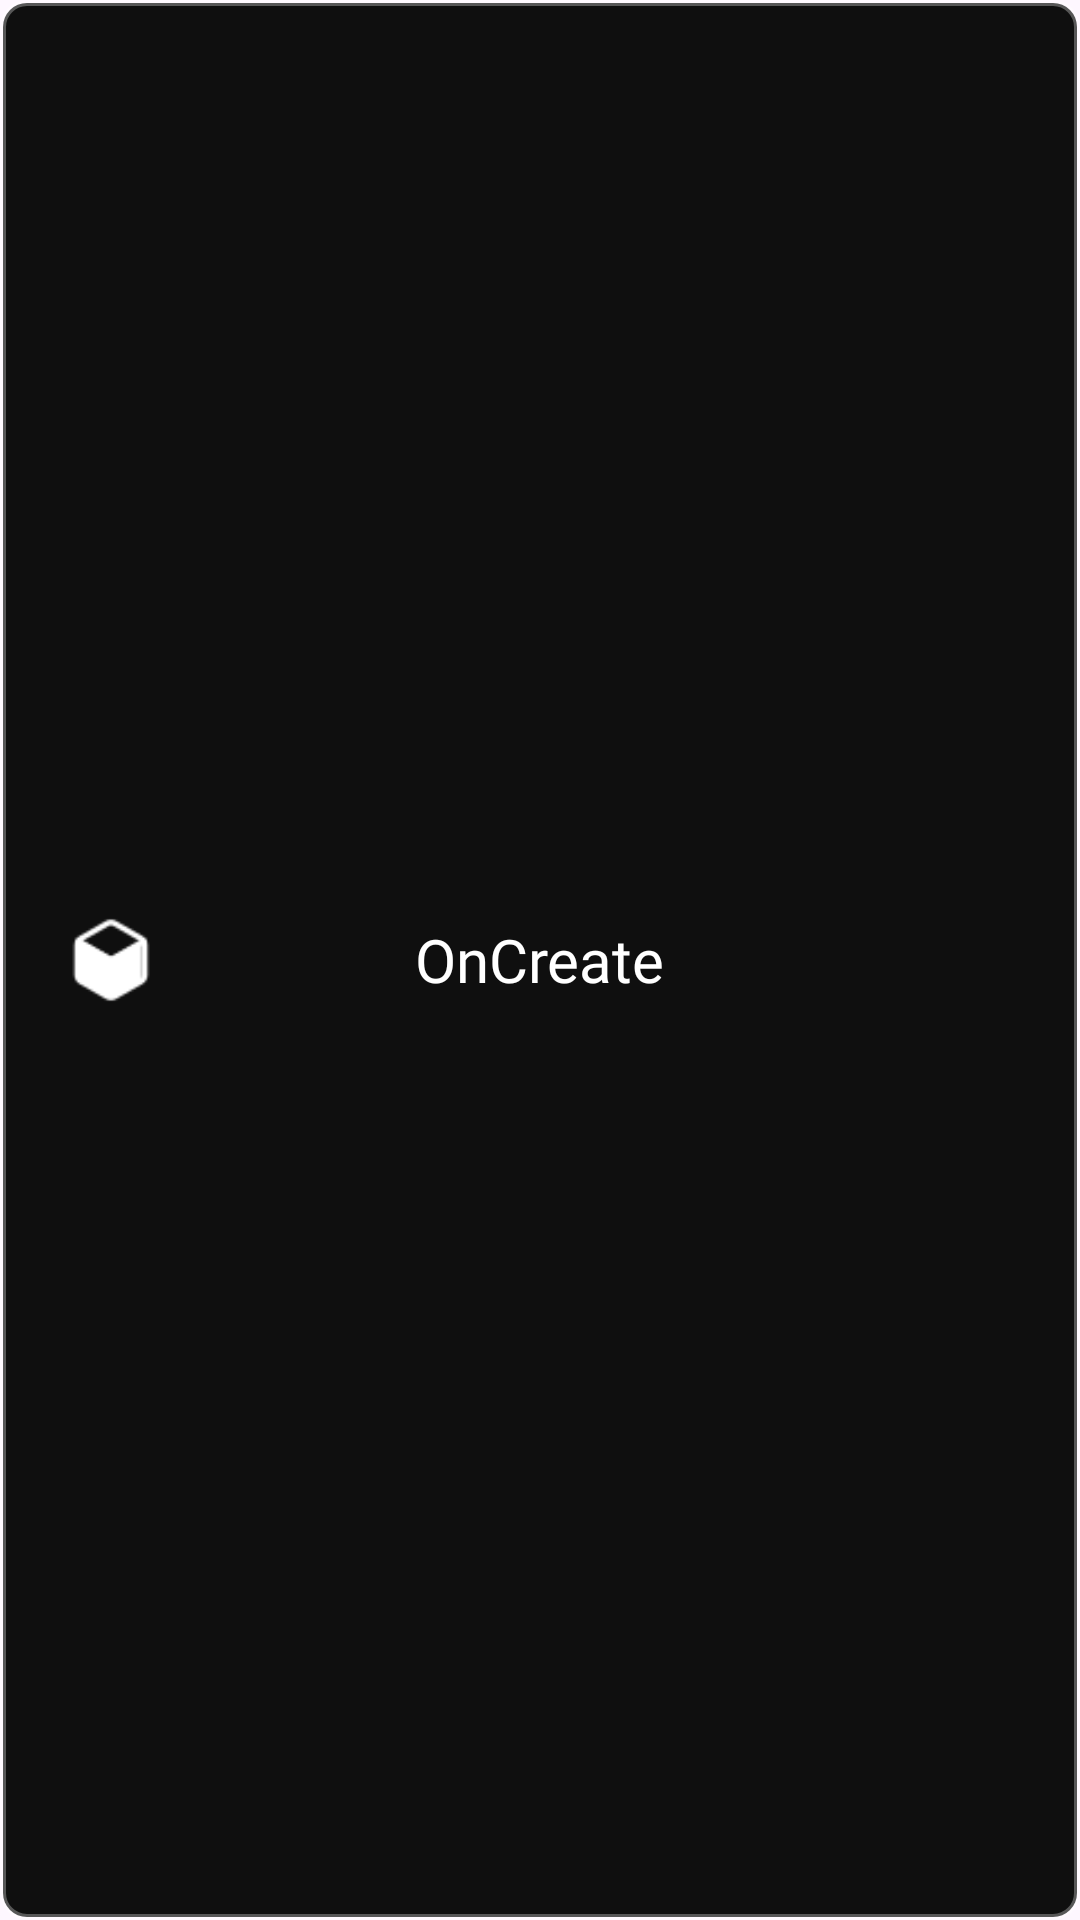

Icon bounding boxes for this 1080×1920 phone screenshot, format [left=x1, top=y1, right=x2, bottom=y2]:
box: [left=73, top=919, right=149, bottom=1001]
